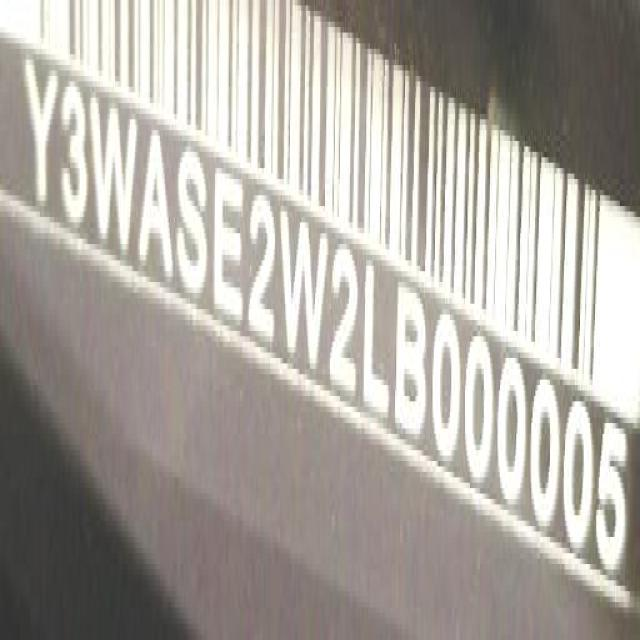0: (530, 371, 566, 544), (462, 325, 495, 497), (562, 397, 597, 557), (432, 308, 464, 478), (499, 352, 531, 514)
2: (248, 183, 282, 353), (328, 241, 360, 402)
3: (58, 76, 89, 243)
5: (598, 408, 634, 582)
A: (140, 124, 178, 288)
B: (397, 286, 432, 448)
E: (212, 160, 247, 329)
L: (363, 259, 396, 425)
S: (178, 144, 214, 309)
W: (88, 80, 138, 256), (284, 209, 332, 388)
Y: (24, 48, 59, 215)
